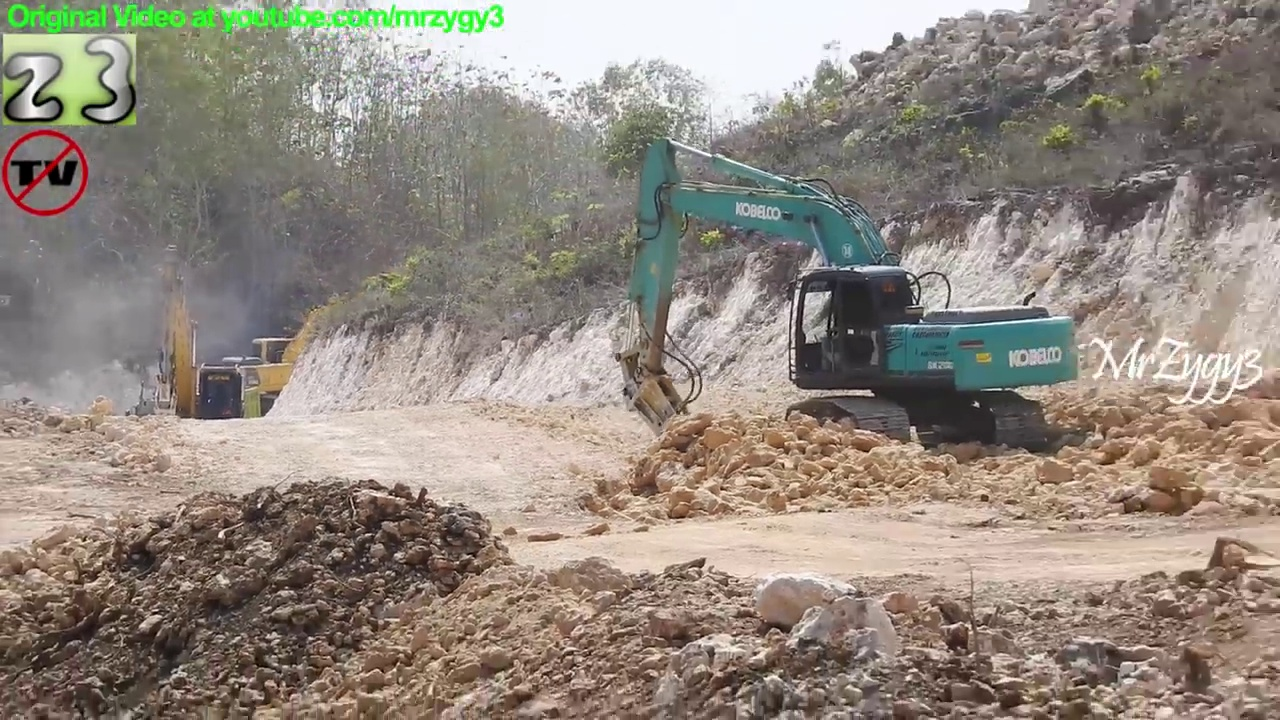excavator: (610, 123, 1086, 474), (215, 276, 400, 427), (138, 237, 248, 450)
truck: (177, 382, 267, 437)
